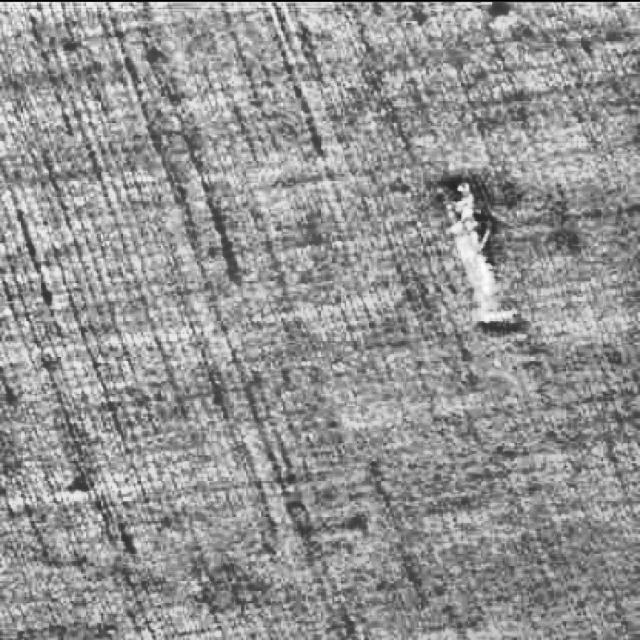hole: (438, 162, 526, 331)
